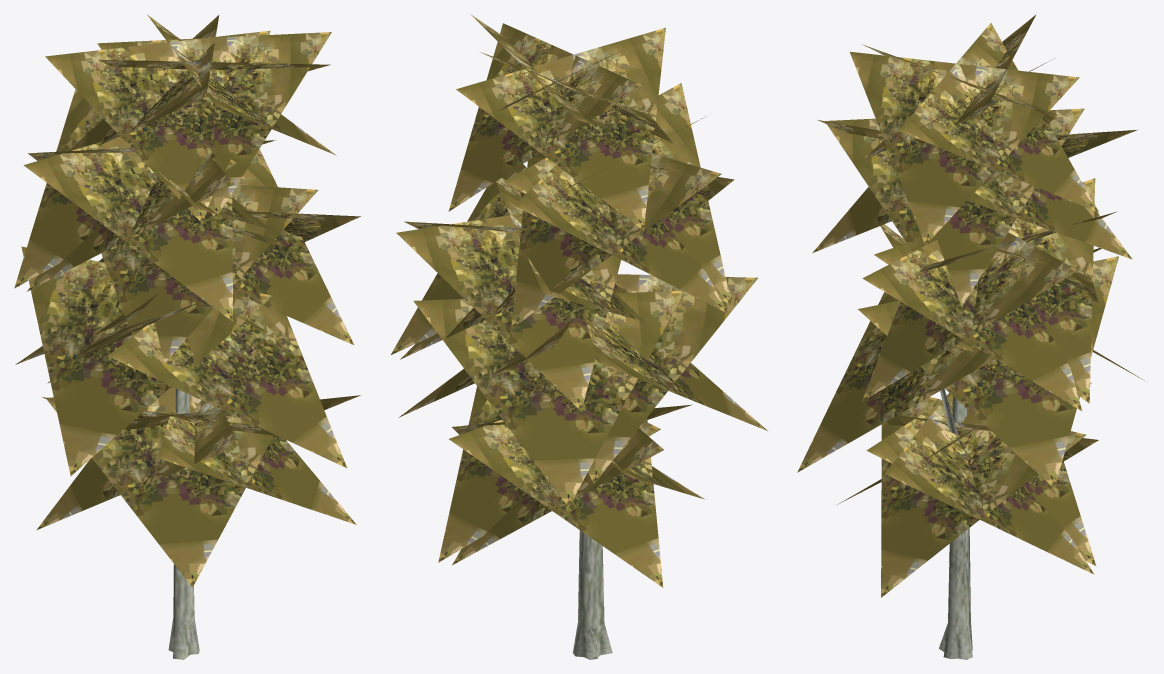
File: beech_v4.glb
3 renders of one model, left to right at view 1: azimuth 30°, elevation 25°; view 2: azimuth 150°, elevation 25°; view 3: azimuth 270°, elevation 25°, orthographic.
Parts seen in each view (by area): view 1: tree_oak_top_a, tree_oak_b; view 2: tree_oak_top_a, tree_oak_b; view 3: tree_oak_top_a, tree_oak_b.
Boxes of the visible parts, bbox=[...] form: tree_oak_top_a: bbox=[14, 14, 360, 587]; tree_oak_b: bbox=[168, 388, 212, 659]; tree_oak_top_a: bbox=[391, 15, 767, 587]; tree_oak_b: bbox=[572, 530, 612, 659]; tree_oak_top_a: bbox=[797, 14, 1147, 597]; tree_oak_b: bbox=[939, 388, 972, 659].
Bounding box in the file's own units: 10.16 × 19.38 × 10.39.
2 materials, 2 textured.
